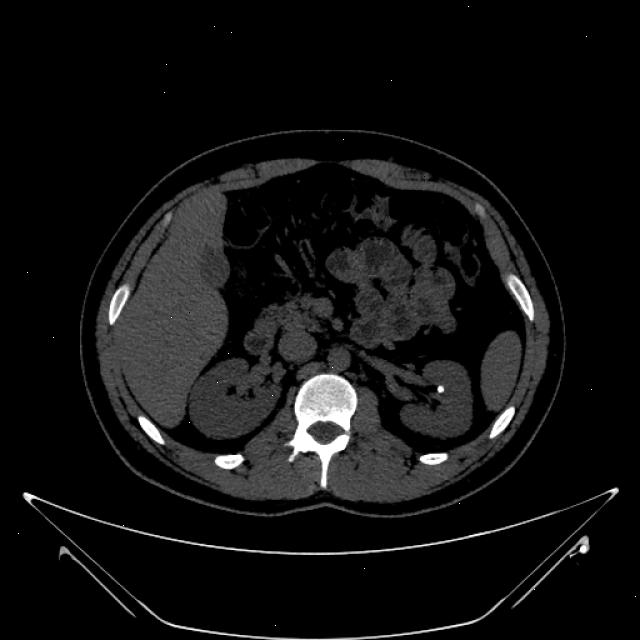kidneystone: (438, 385, 445, 393)
